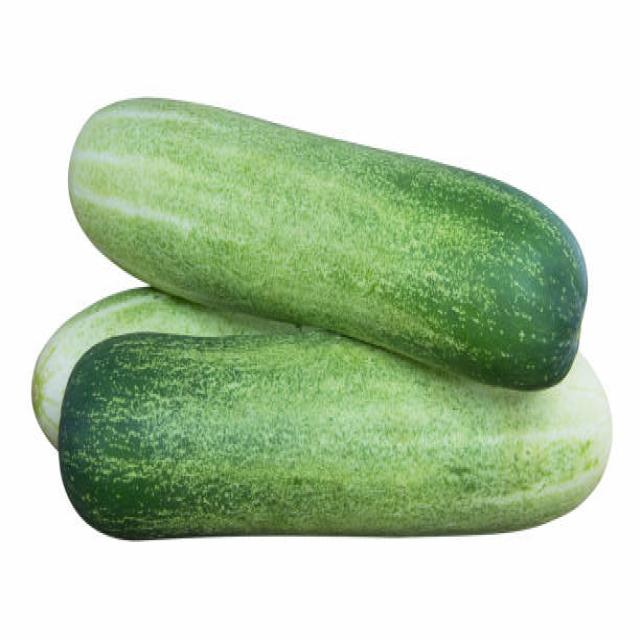cucumber: (68, 96, 588, 391), (58, 333, 612, 542)
